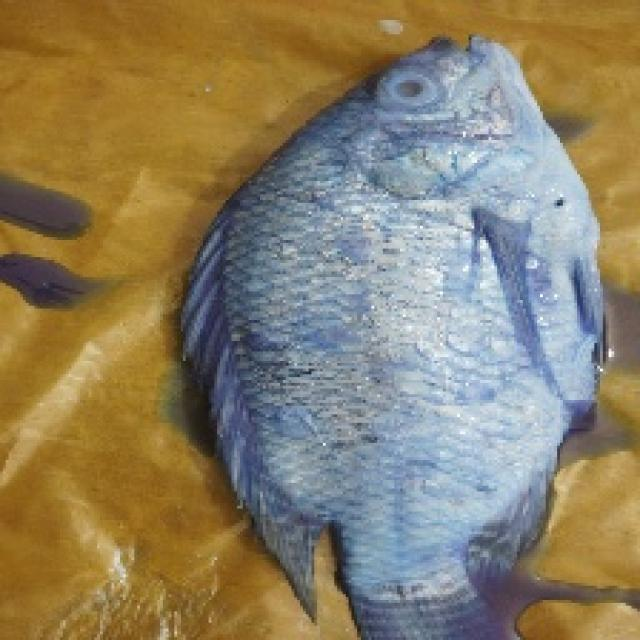Non-Fresh: (212, 9, 628, 596), (374, 51, 451, 125)
